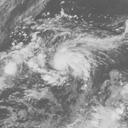cyclone: (29, 34, 92, 89)
